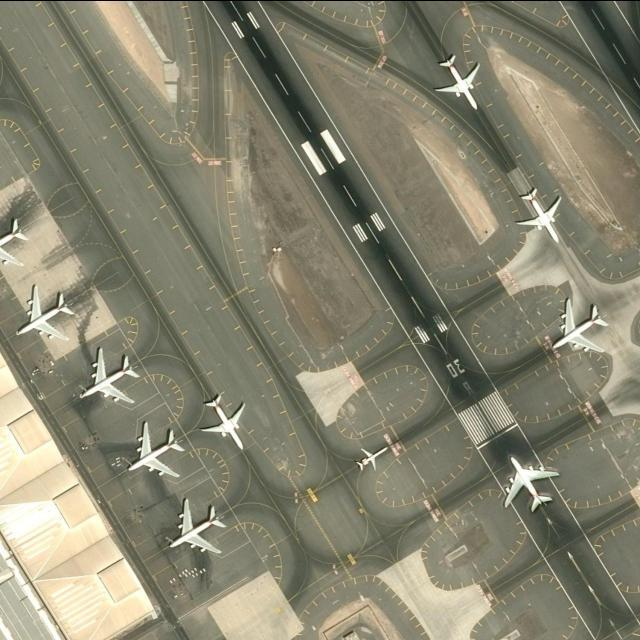Aircraft: (75, 344, 141, 406), (9, 282, 77, 342), (497, 449, 557, 514), (163, 496, 227, 556), (121, 418, 185, 476), (545, 297, 611, 353), (433, 51, 486, 111), (515, 181, 567, 241), (194, 391, 248, 448), (1, 212, 29, 272), (351, 445, 387, 473)
